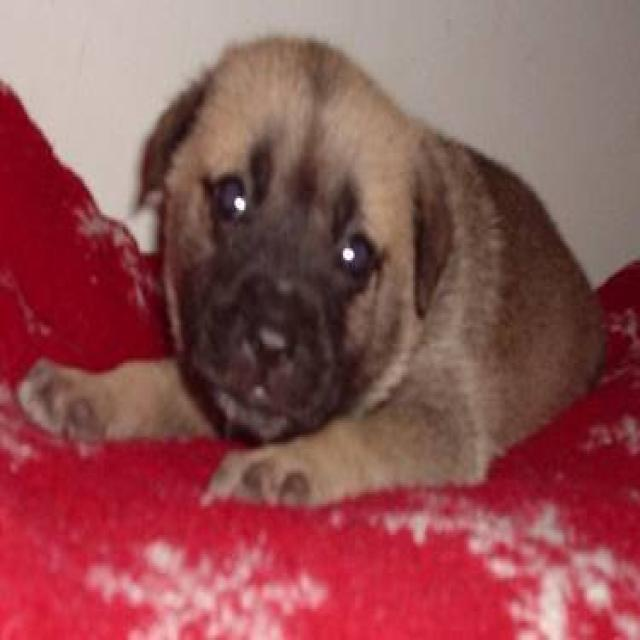dog: (15, 31, 608, 509)
